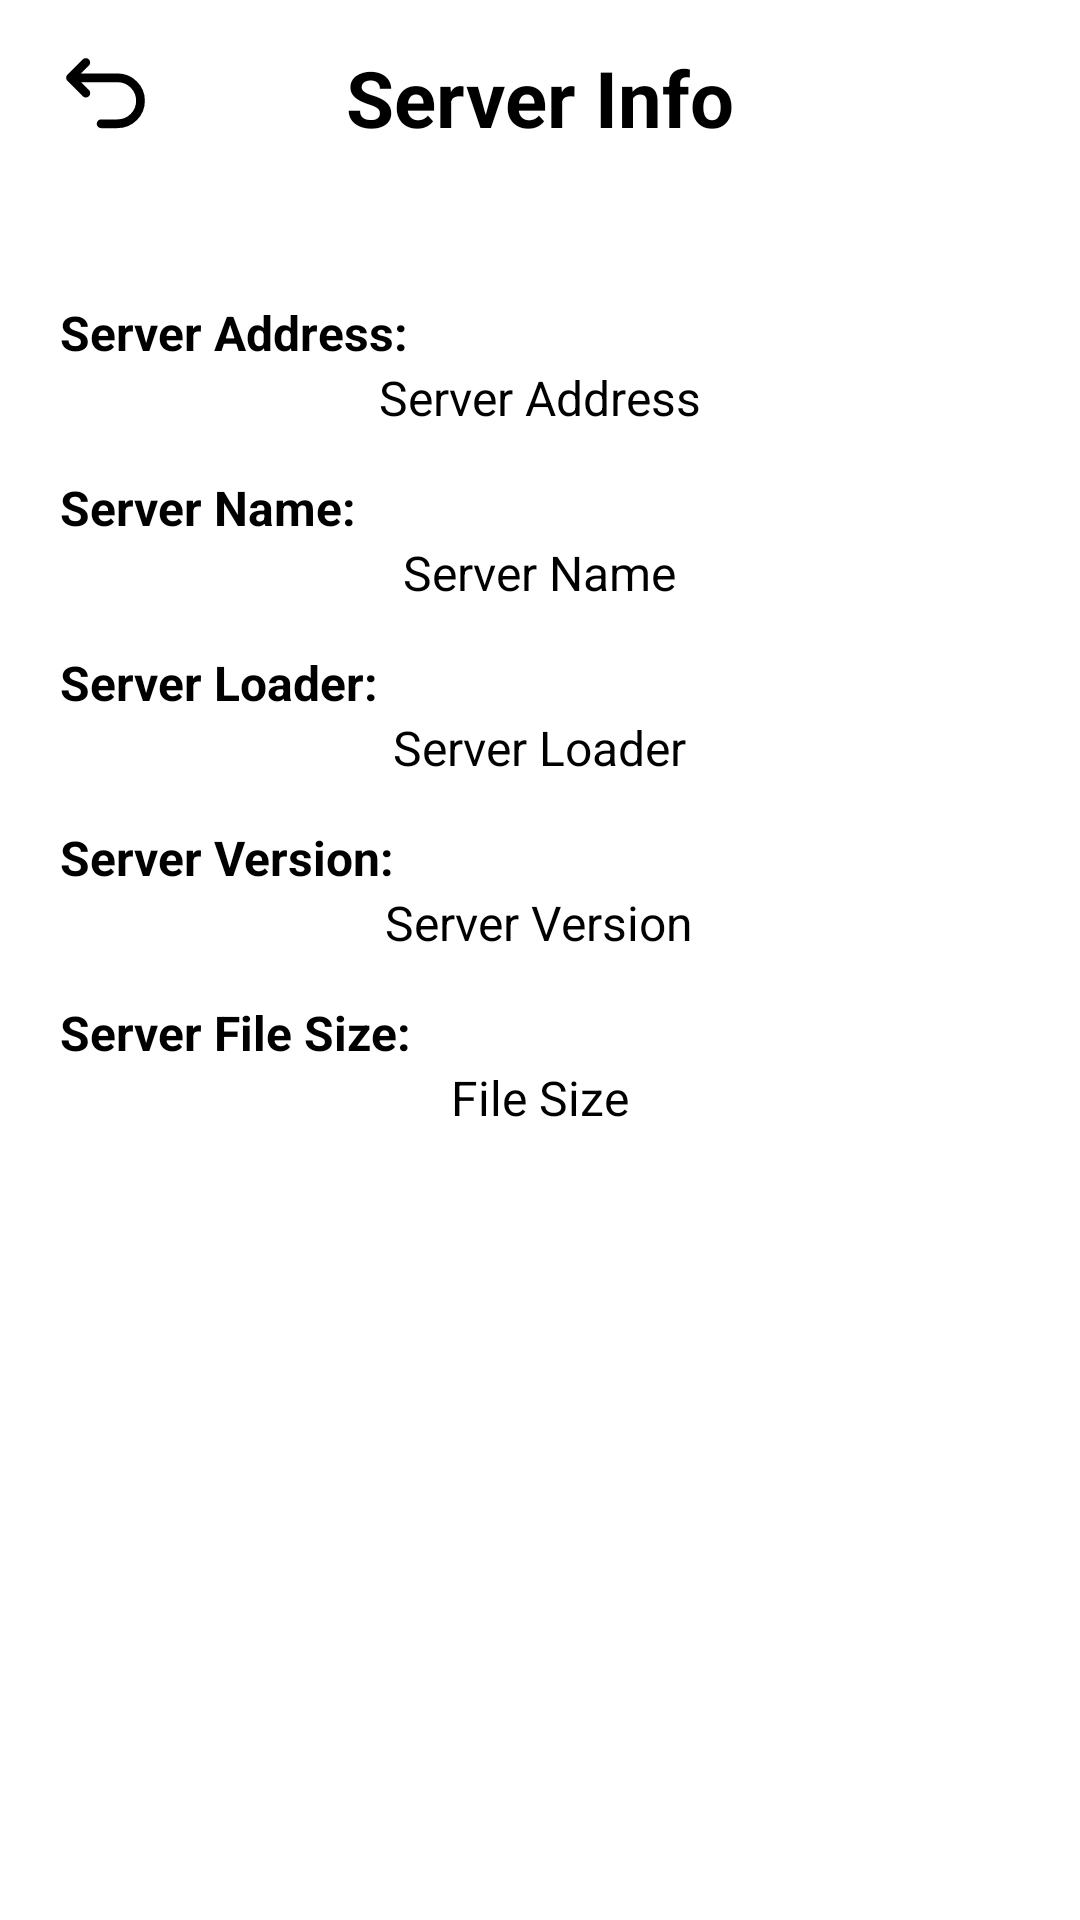

Named icons in this screenshot (1080 × 1920) and their centers, (x=x, y=y):
back: (x=105, y=93)
